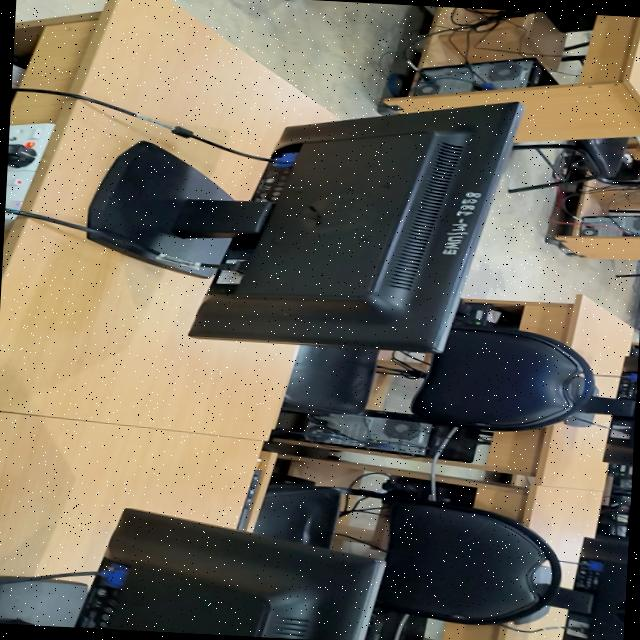Chair: (255, 480, 562, 624), (283, 327, 595, 431), (508, 137, 640, 192)
Cpu: (303, 415, 492, 462), (411, 57, 556, 95), (581, 215, 640, 236)
Monitor: (76, 102, 521, 351), (0, 507, 383, 640), (549, 535, 629, 640), (565, 355, 639, 465)
